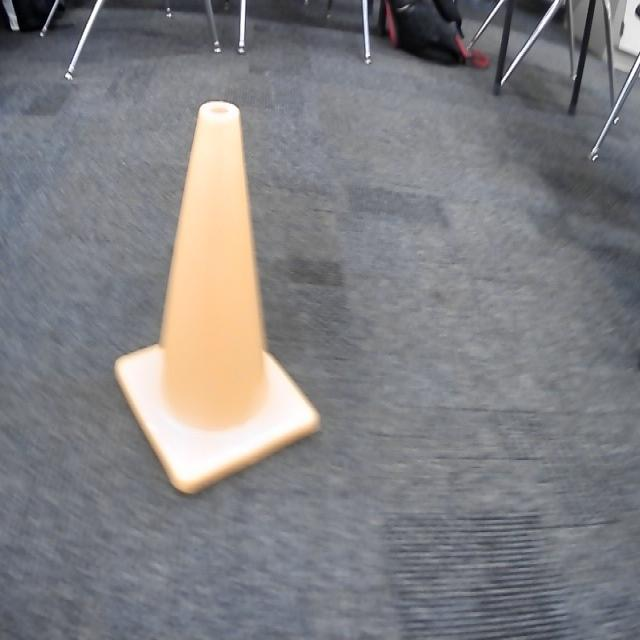cone: (107, 94, 325, 512)
